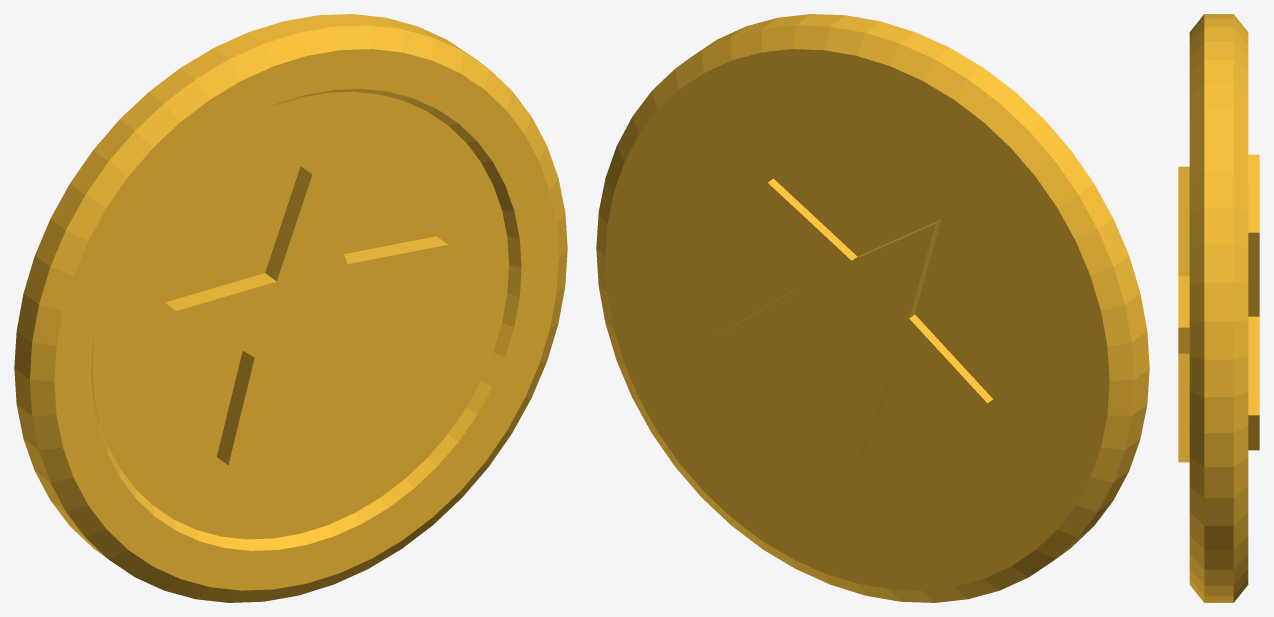
File: Prop_Coin.glb
The picture shows the model from 3 angles, left to right: view 1: azimuth 30°, elevation 25°; view 2: azimuth 150°, elevation 25°; view 3: azimuth 270°, elevation 25°; orthographic projection. The views are drawn at different scales.
Visible parts, largest first — view 1: Coin; view 2: Coin; view 3: Coin.
Part boxes in pixels (bbox=[...]): Coin: bbox=[14, 14, 567, 602]; Coin: bbox=[596, 14, 1149, 602]; Coin: bbox=[1178, 14, 1259, 602].
Bounding box in the file's own units: 0.32 × 0.32 × 0.044.
